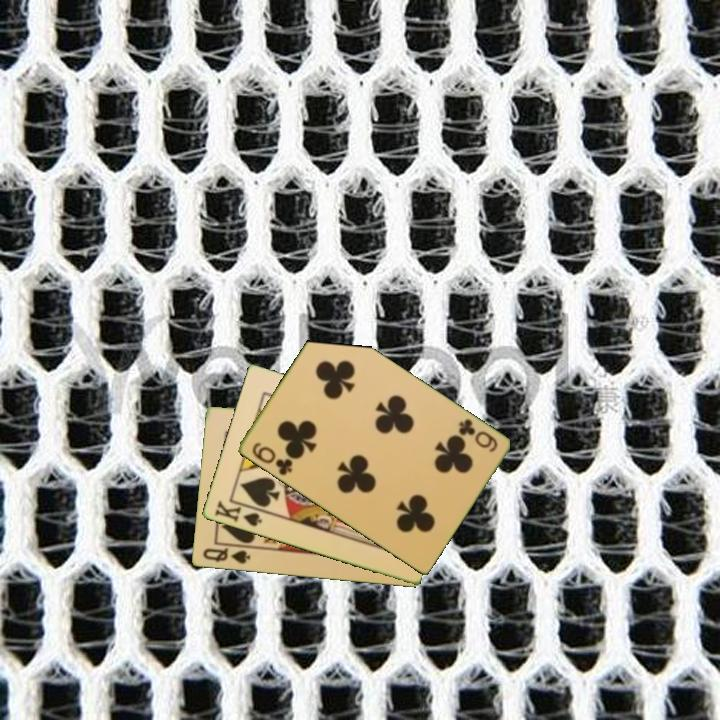6c: (248, 438, 295, 478), (454, 415, 500, 455)
Ks: (211, 497, 267, 529)
Qs: (199, 545, 253, 567)
